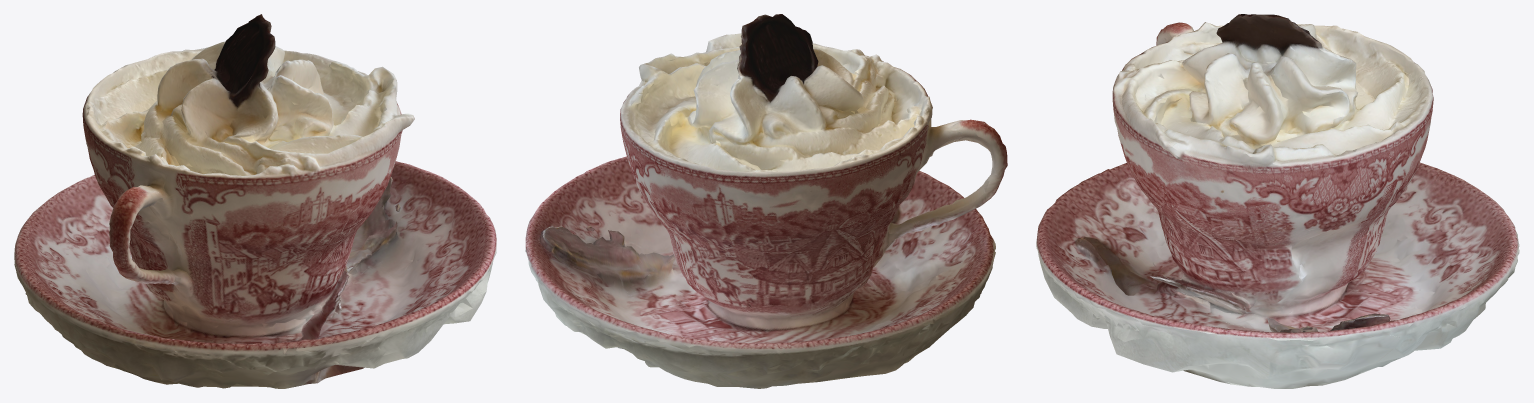
The model's file is viyana_kahvesi.glb.
3 views of the same model, side by side, from view 1: azimuth 30°, elevation 25°; view 2: azimuth 150°, elevation 25°; view 3: azimuth 270°, elevation 25° (orthographic). The views are drawn at different scales.
Parts seen in each view (by area): view 1: Object_2; view 2: Object_2; view 3: Object_2.
Boxes of the visible parts, box(x1,y1,x2,y2) form: Object_2: box(14, 14, 496, 388); Object_2: box(525, 14, 1007, 388); Object_2: box(1036, 14, 1519, 388).
Size of the model in its own units: 2.39 by 1.62 by 2.37.
1 material, 1 textured.
